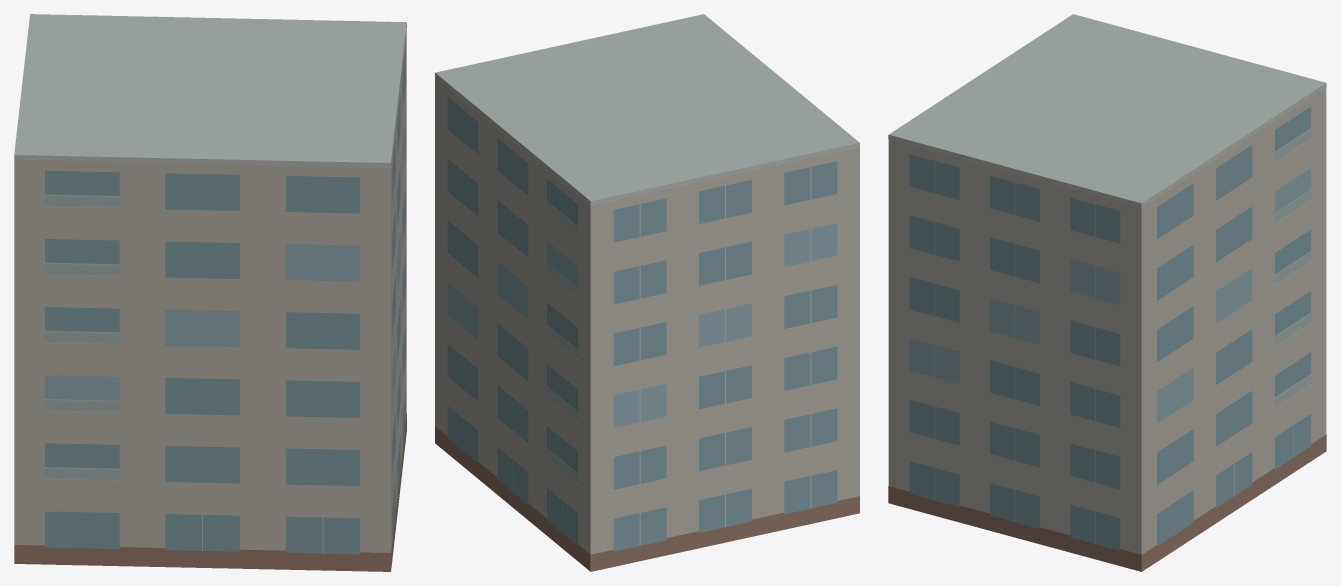
Rendered from survey-upis-33008151.glb.
The picture shows the model from 3 angles, left to right: view 1: azimuth 30°, elevation 25°; view 2: azimuth 150°, elevation 25°; view 3: azimuth 270°, elevation 25°; orthographic projection. The views are drawn at different scales.
Parts seen in each view (by area): view 1: survey-upis-33008151.tmp; view 2: survey-upis-33008151.tmp; view 3: survey-upis-33008151.tmp.
Boxes of the visible parts, bbox=[...] form: survey-upis-33008151.tmp: bbox=[14, 14, 406, 571]; survey-upis-33008151.tmp: bbox=[435, 14, 859, 571]; survey-upis-33008151.tmp: bbox=[888, 14, 1326, 571].
Size of the model in its own units: 21.66 by 19.65 by 21.17.
